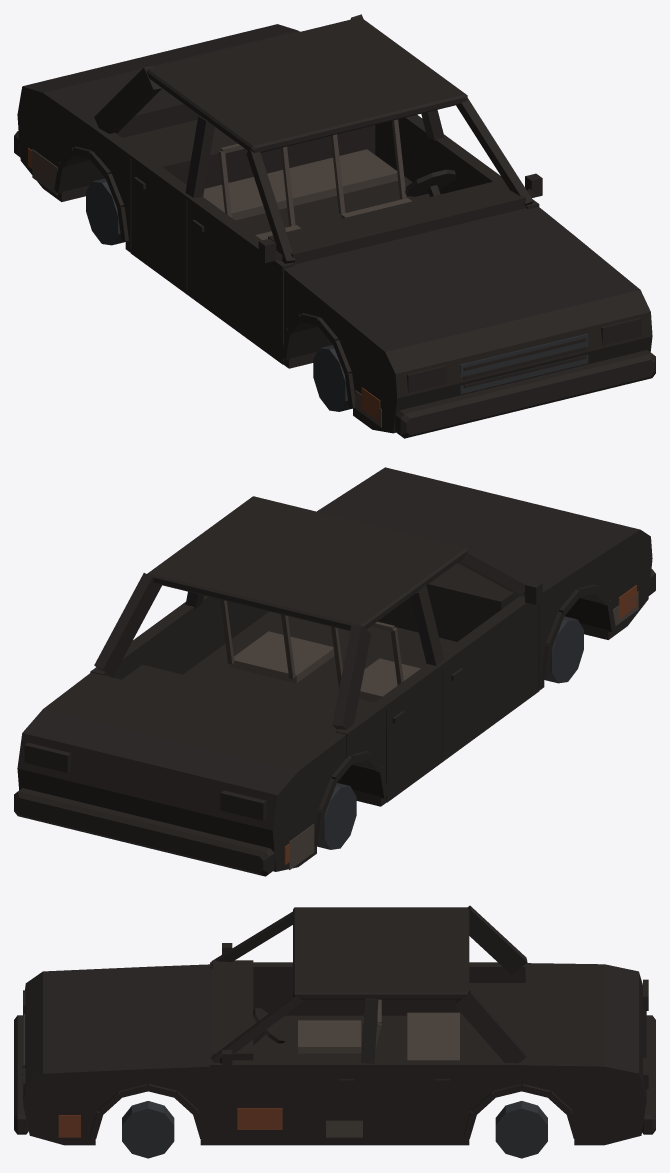
The model's file is SM_Borgo_Car_Wreck_Burnt.glb.
The picture shows the model from 3 angles, top to bottom: view 1: azimuth 30°, elevation 25°; view 2: azimuth 150°, elevation 25°; view 3: azimuth 270°, elevation 25°; orthographic projection. The views are drawn at different scales.
Visible parts, largest first — view 1: SM_Borgo_Car_Wreck_Burnt; view 2: SM_Borgo_Car_Wreck_Burnt; view 3: SM_Borgo_Car_Wreck_Burnt.
Part boxes in pixels (<box>): SM_Borgo_Car_Wreck_Burnt: <box>14,14,655,438</box>; SM_Borgo_Car_Wreck_Burnt: <box>14,467,655,876</box>; SM_Borgo_Car_Wreck_Burnt: <box>14,905,655,1158</box>.
Bounding box in the file's own units: 2 × 1.36 × 4.88.
1 material, 1 textured.
